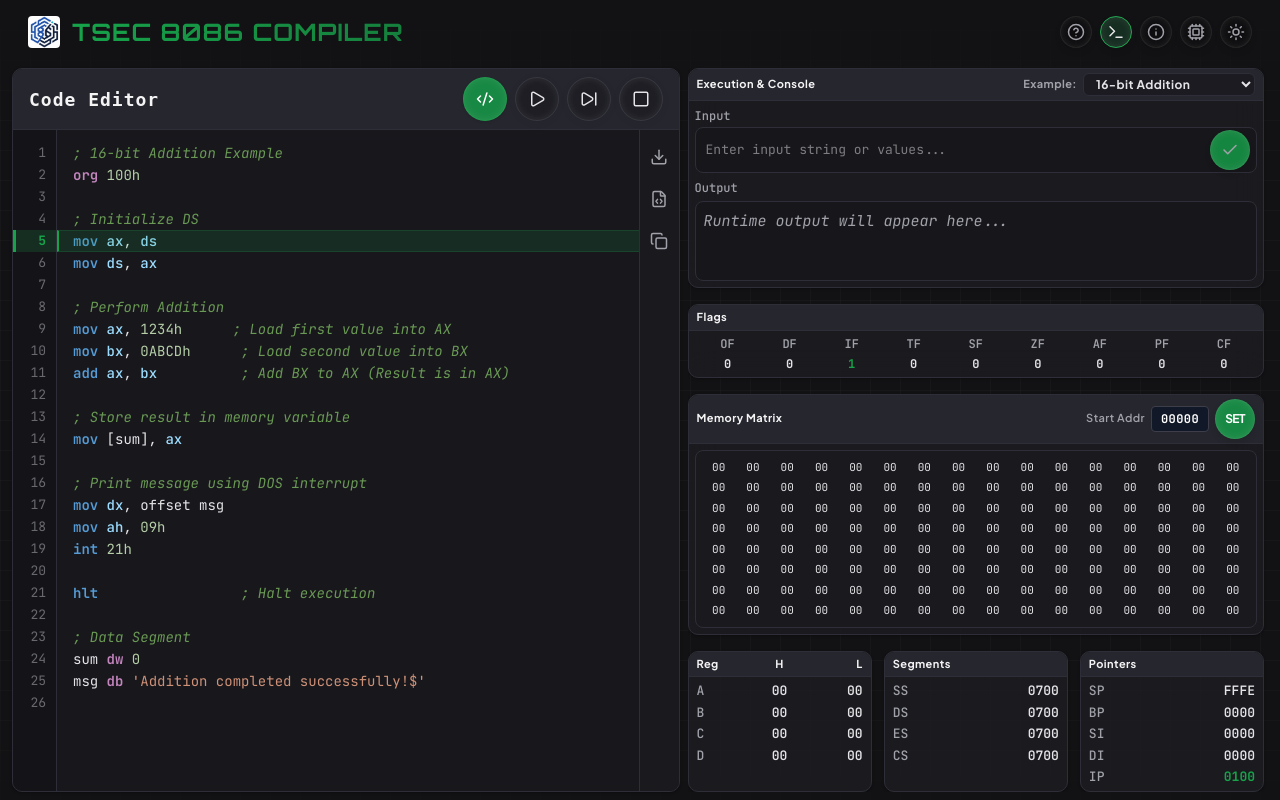
Scenario: Interactive Tutorial Flow & Hotkey Shortcut › starts tutorial step 1 when clicking Tutorial navbar button
Click the button titled "Help / Tutorial" at point(1076, 32), box [1060, 16, 1092, 48]
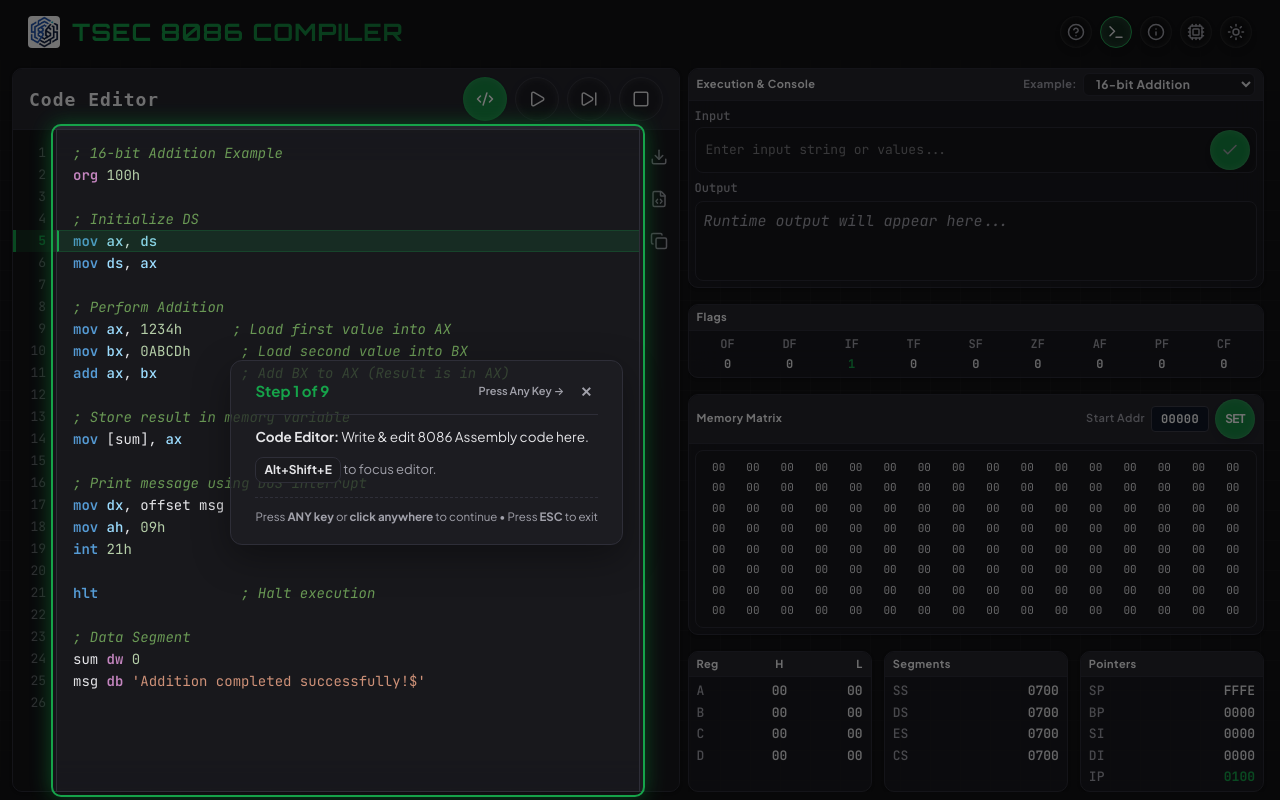
expect the text with class "yj-tutorial-title" shows "Step 1": met, box [255, 380, 329, 403]
expect the element with class "yj-tutorial-body" shows "Code Editor": met, box [255, 428, 339, 445]
